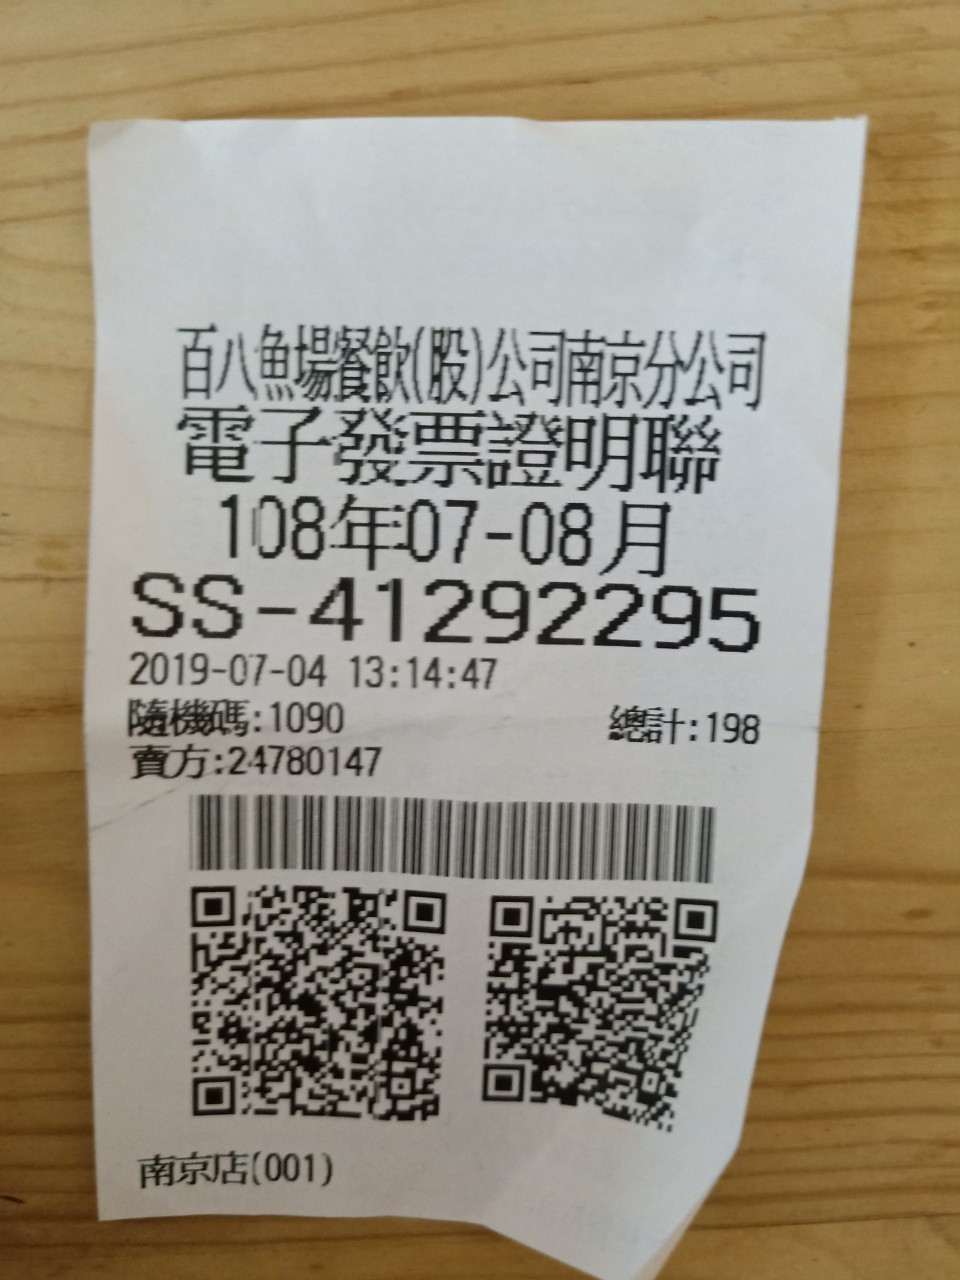Date_New: (214, 487, 673, 582)
Number_New: (305, 573, 768, 658)
